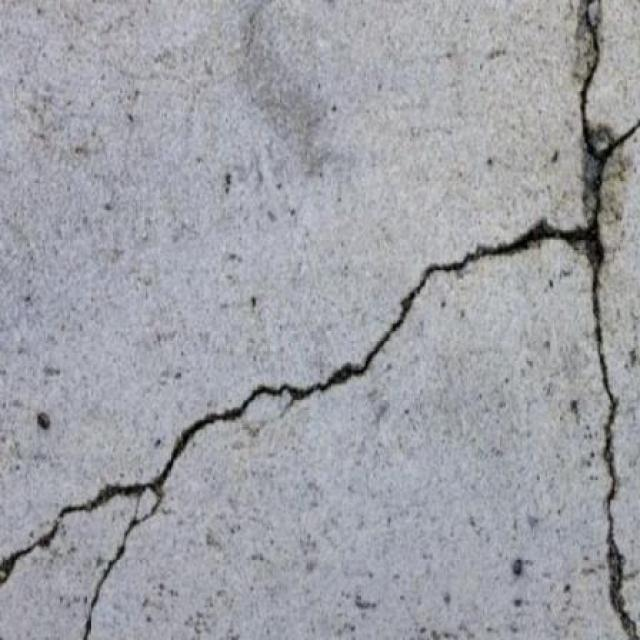Crack: (59, 0, 640, 640), (0, 521, 59, 587)
